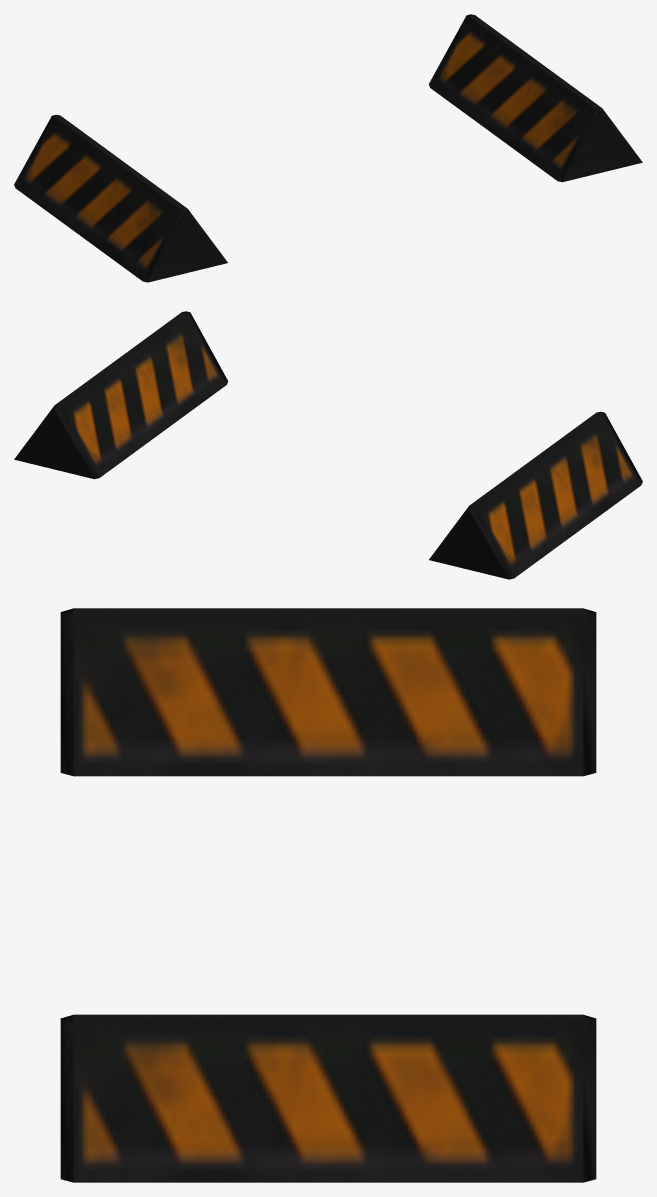
File: chock_left.glb
3 renders of one model, top to bottom at view 1: azimuth 30°, elevation 25°; view 2: azimuth 150°, elevation 25°; view 3: azimuth 270°, elevation 25°, orthographic. The views are drawn at different scales.
Visible parts, largest first — view 1: chock (×2); view 2: chock (×2); view 3: chock (×2).
Boxes of the visible parts, box(x1,y1,x2,y2) form: chock (×2): box(14, 14, 642, 282); chock (×2): box(14, 311, 642, 579); chock (×2): box(60, 608, 596, 1182).
Size of the model in its own units: 3.45 by 0.4143 by 1.6.
Materials: 1 (1 with a texture image).
